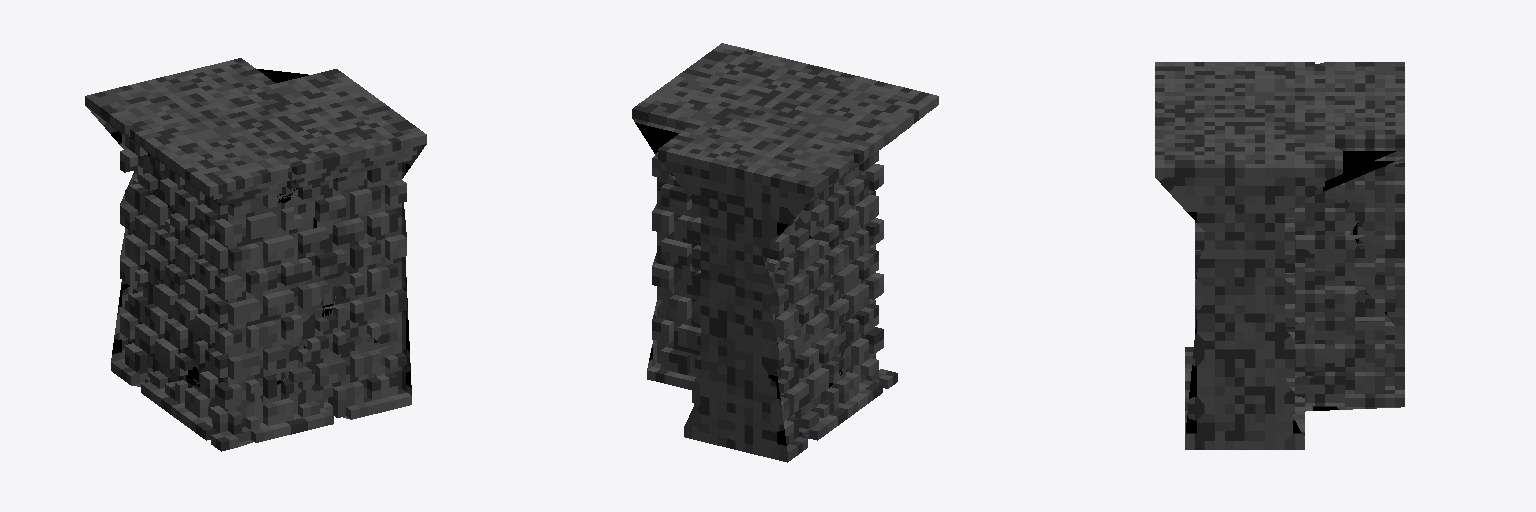
3 views of the same model, side by side, from view 1: azimuth 30°, elevation 25°; view 2: azimuth 150°, elevation 25°; view 3: azimuth 270°, elevation 25° (orthographic).
Parts seen in each view (by area): view 1: Wall_In_LOut_Brick_Cracked_Wall_In_LOut_Brick_Cracked.001; view 2: Wall_In_LOut_Brick_Cracked_Wall_In_LOut_Brick_Cracked.001; view 3: Wall_In_LOut_Brick_Cracked_Wall_In_LOut_Brick_Cracked.001.
Part boxes in pixels (x1,y1,x2,y2): Wall_In_LOut_Brick_Cracked_Wall_In_LOut_Brick_Cracked.001: (85,58,426,451); Wall_In_LOut_Brick_Cracked_Wall_In_LOut_Brick_Cracked.001: (632,43,938,462); Wall_In_LOut_Brick_Cracked_Wall_In_LOut_Brick_Cracked.001: (1155,62,1404,449).
Size of the model in its own units: 2.5 by 3.1 by 2.5.
1 materials, 1 textured.